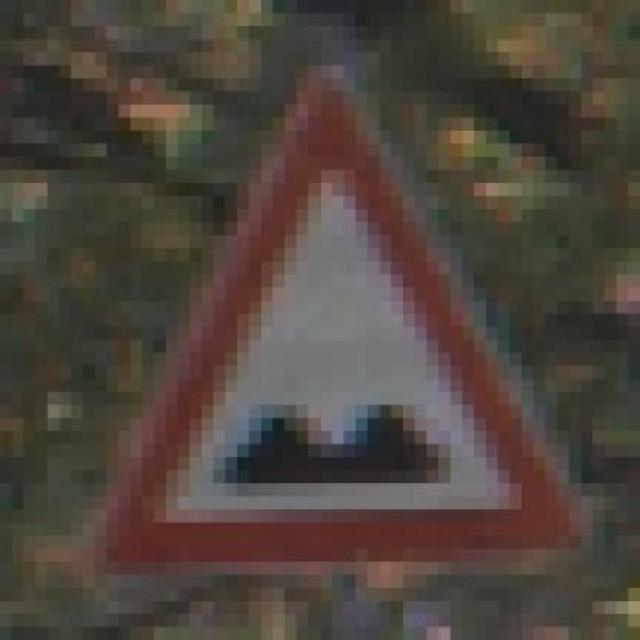Uneven Road: (82, 39, 593, 575)
